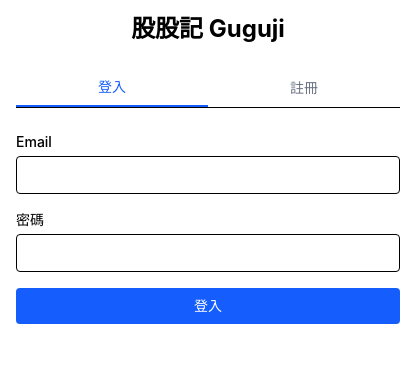
Scenario: Login › shows error message when signIn fails
Type "a@b.com" into the field labelled "Email" at [208, 175], box [16,156,400,194]
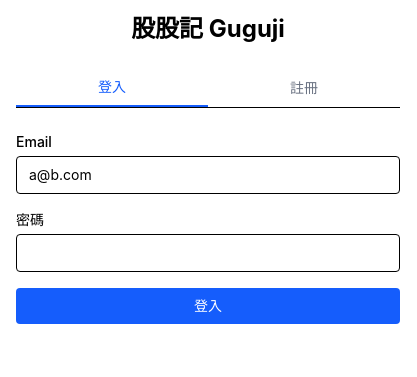
Type "wrong" into the password field labelled "密碼" at [208, 253], box [16,234,400,272]
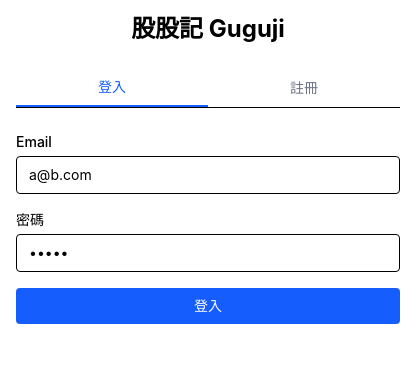
Submit the form, box [16,132,400,324]
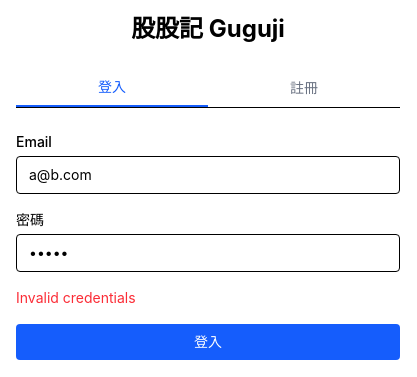
Expected: the text "Invalid credentials" is shown, [16,289,136,306]
